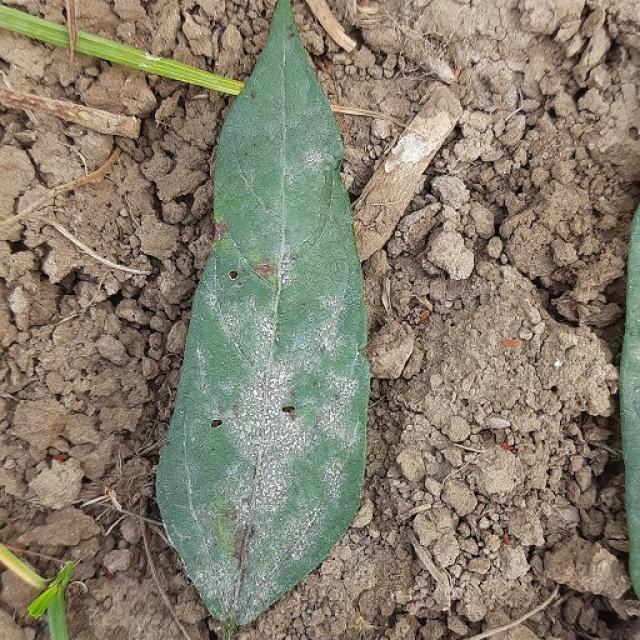Blackgram: (158, 0, 368, 624)
Powdery_Mildew: (197, 282, 352, 594), (232, 331, 322, 472), (241, 375, 307, 443), (246, 464, 293, 522), (299, 145, 329, 186)
